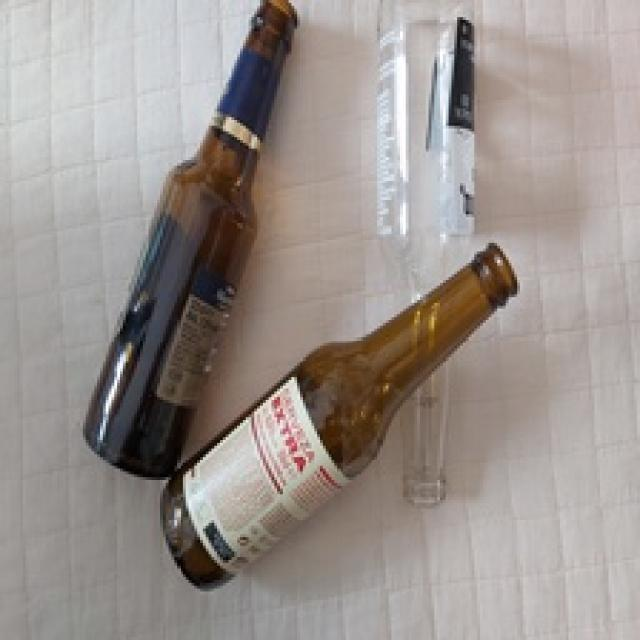Glass: (164, 245, 524, 594), (83, 0, 297, 480), (373, 14, 472, 512)
